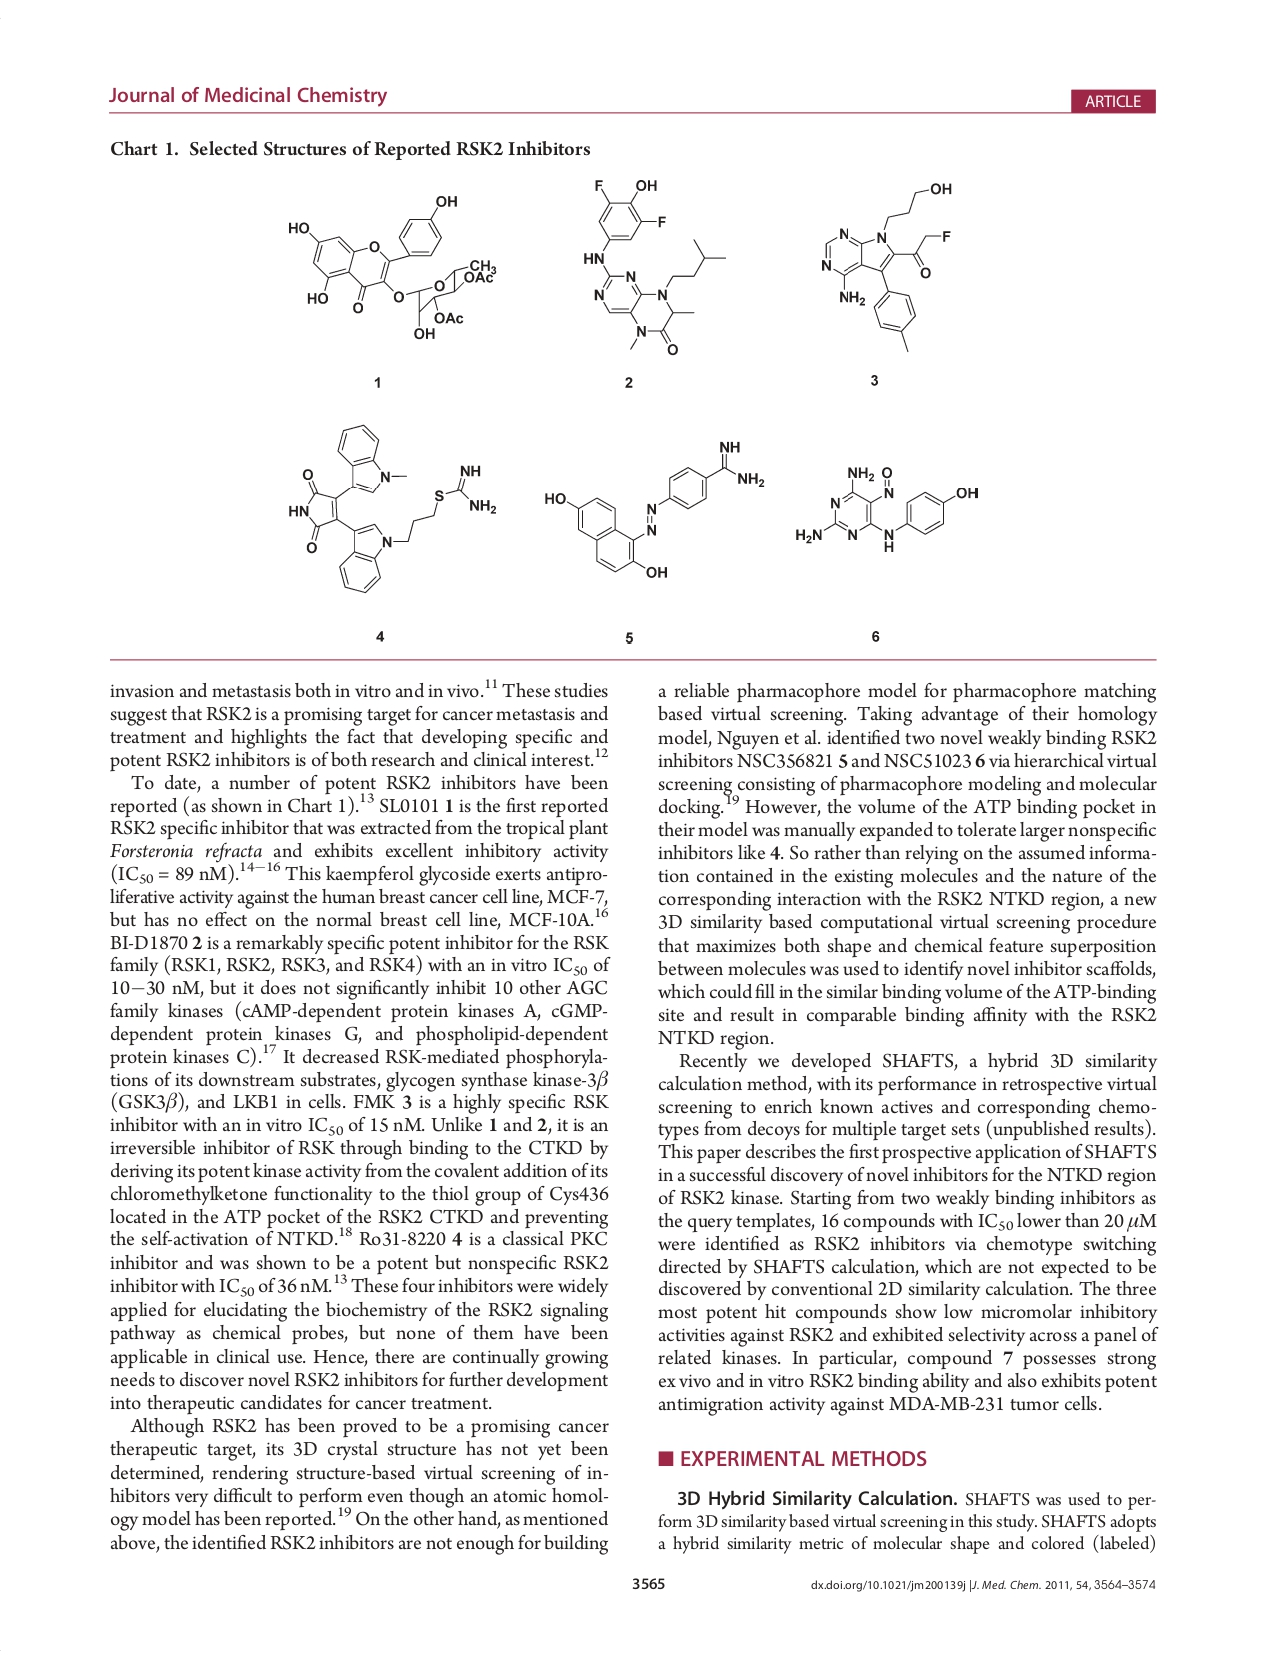exist_molecular: (283, 418, 501, 598), (539, 436, 767, 586), (285, 188, 497, 344), (578, 169, 729, 360), (815, 172, 961, 356), (789, 457, 981, 553)
